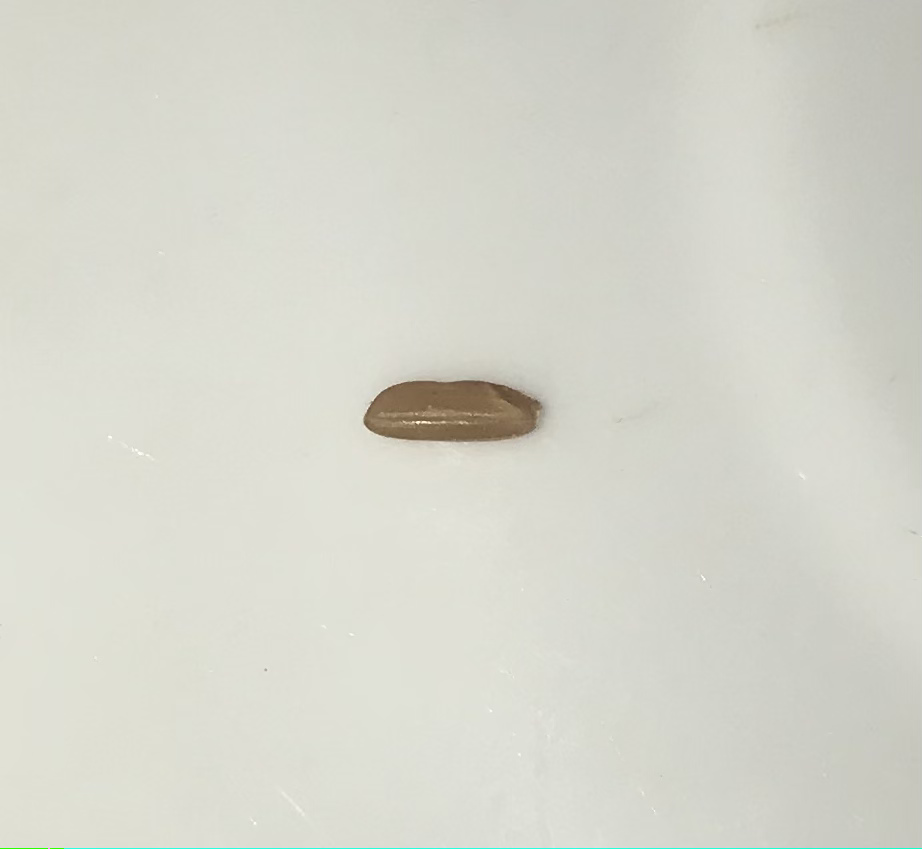Gao Lut Do: (358, 373, 552, 454)
